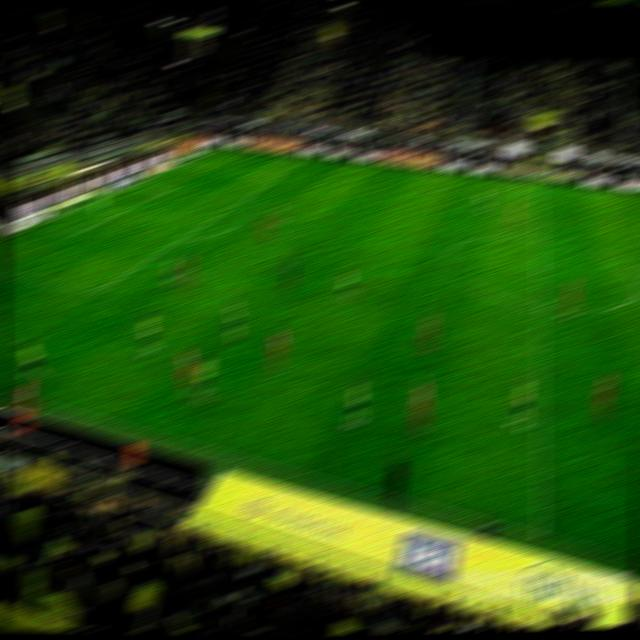bigarea_bottom_inner: (87, 288, 106, 298)
bigarea_top_inner: (266, 172, 285, 183)
bigarea_top_outter: (166, 162, 185, 173)
bottom_arc_area_intersection: (168, 236, 187, 247)
corner: (209, 146, 228, 156)
halfcircle_bottom: (529, 301, 548, 312)
halfcircle_top: (529, 231, 548, 242)
midline_bottom_intersection: (525, 526, 552, 544)
midline_top_intersection: (529, 178, 548, 188)
smallarea_bottom_inner: (69, 227, 88, 237)
smallarea_bottom_outter: (25, 222, 44, 232)
smallarea_top_inner: (157, 184, 176, 194)
smallarea_top_outter: (122, 179, 141, 190)
top_arc_area_intersection: (229, 197, 248, 207)
